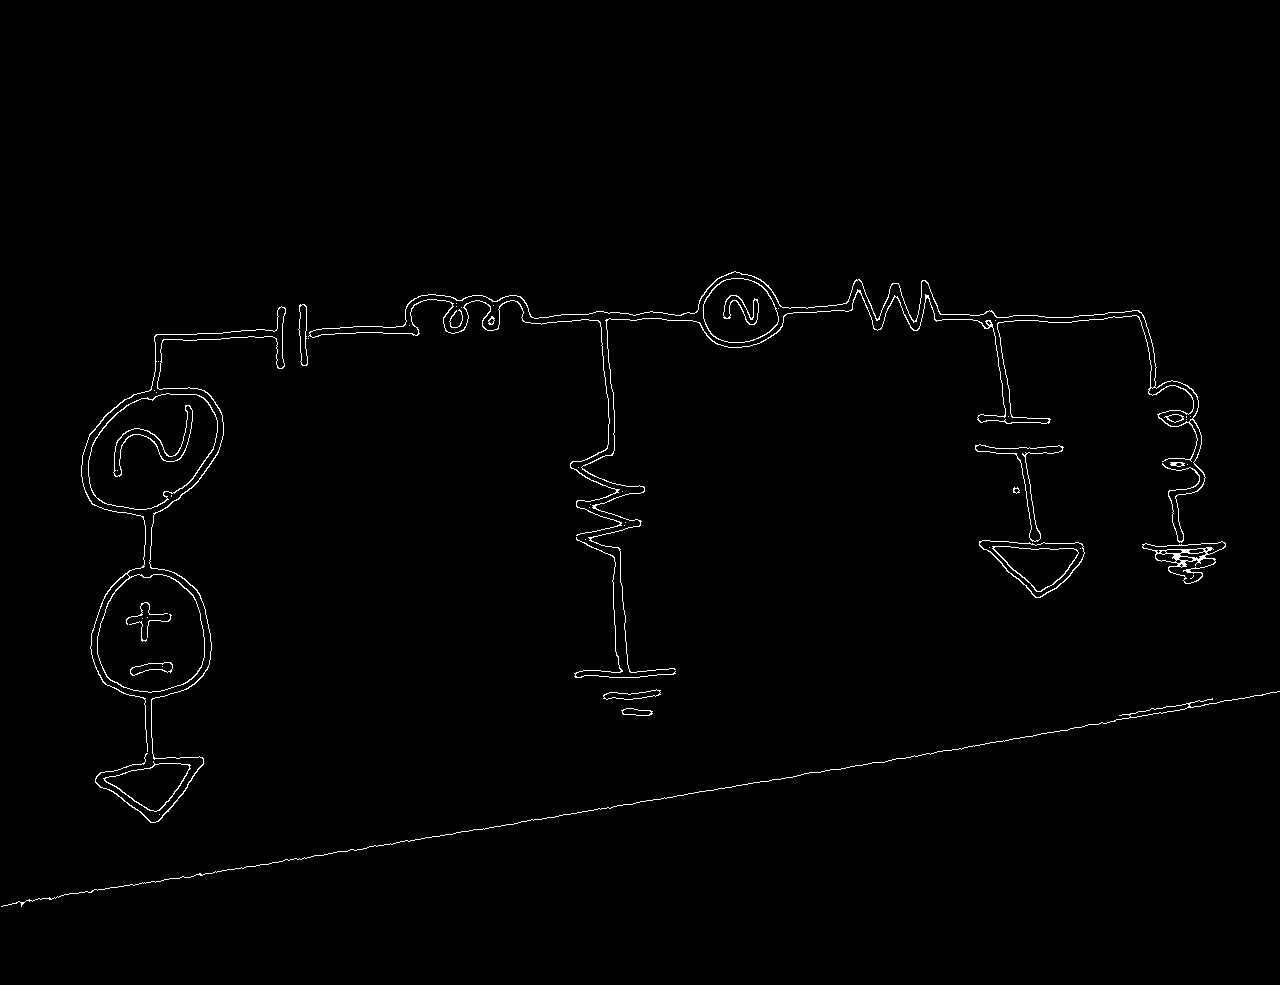capacitor: (968, 395, 1069, 475), (257, 295, 333, 375)
ground0: (1133, 519, 1232, 621)
ground1: (570, 656, 684, 758)
ground2: (88, 731, 211, 866), (970, 519, 1091, 655)
inductor: (381, 286, 558, 347), (1140, 371, 1211, 516)
resistor: (561, 419, 653, 580), (823, 274, 967, 337)
signal: (78, 368, 231, 541), (672, 268, 808, 355)
voltage: (85, 548, 216, 720)
